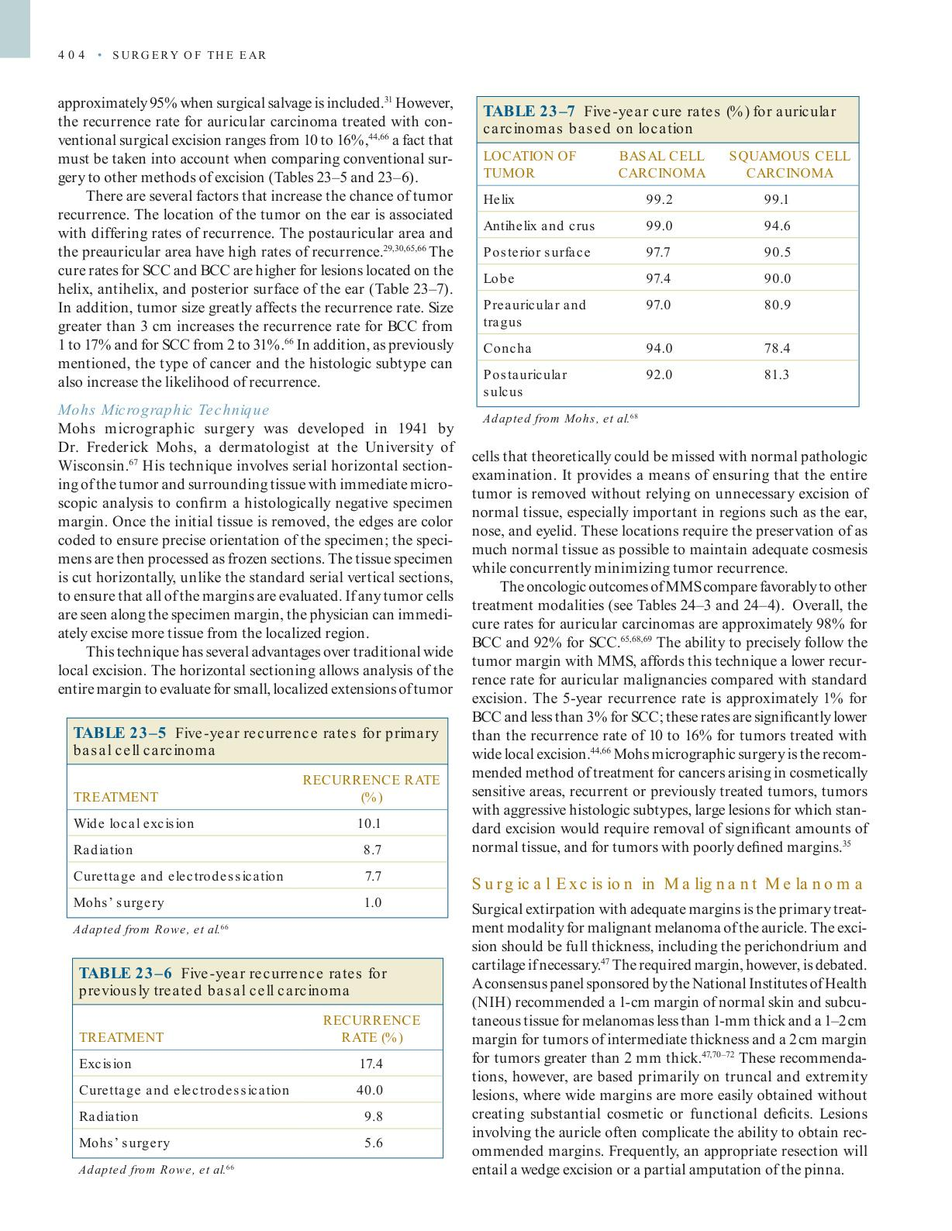caption: (71, 723, 440, 757), (481, 102, 839, 136), (77, 965, 389, 1001)
header: (112, 48, 269, 61)
section-heading: (471, 875, 864, 895)
sub-section-heading: (56, 400, 271, 420)
table: (476, 142, 860, 427), (66, 763, 449, 938), (72, 1003, 444, 1179)
text: (468, 447, 872, 858), (55, 92, 458, 390), (470, 901, 869, 1180), (56, 421, 455, 699)
